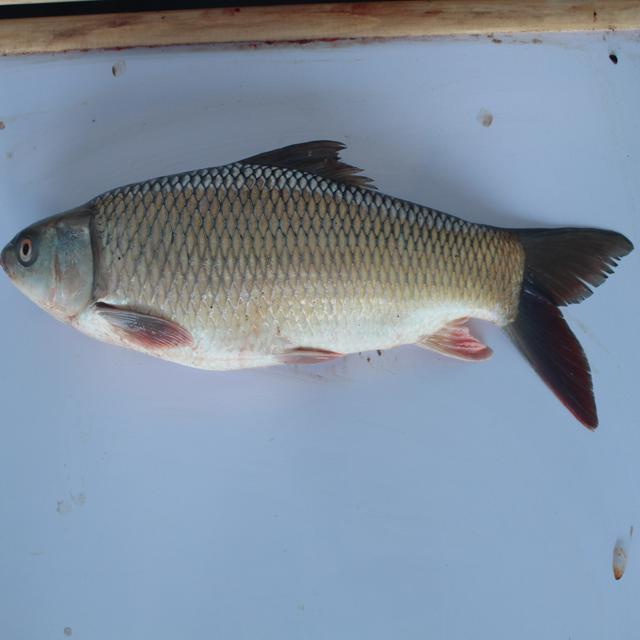Mori: (2, 136, 631, 435)
